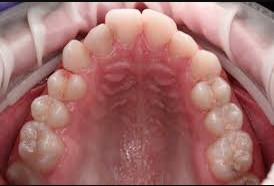UL1BC_healthy: (195, 82, 229, 108)
UL1M_healthy: (211, 134, 256, 174)
UL2BC_healthy: (209, 107, 243, 135)
ULCI_healthy: (144, 10, 173, 49)
ULC_healthy: (195, 51, 221, 79)
ULLI_healthy: (174, 33, 195, 61)
UR1BC_healthy: (48, 69, 86, 100)
UR1M_healthy: (21, 123, 63, 171)
UR2BC_healthy: (32, 96, 71, 127)
URCI_healthy: (108, 8, 144, 45)
URC_healthy: (64, 39, 88, 71)
URLI_healthy: (86, 25, 112, 56)
